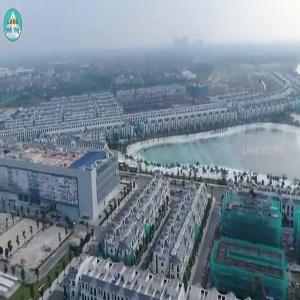drone: (235, 175, 276, 216)
